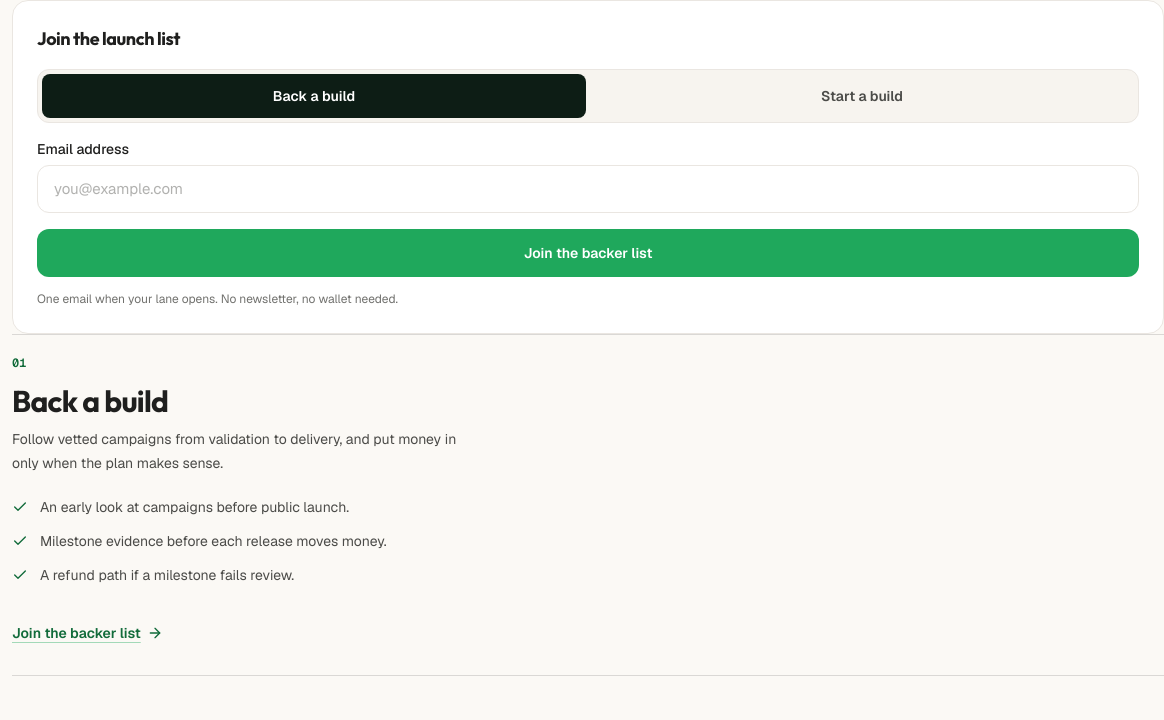
Test: WaitlistForm › keeps the lane summary in step with the form switch
Expected: the heading "Back a build" is shown, [12,382,168,420]
Click the radio button labelled "Start a build". click: click(862, 96)
box: [821,87,903,105]
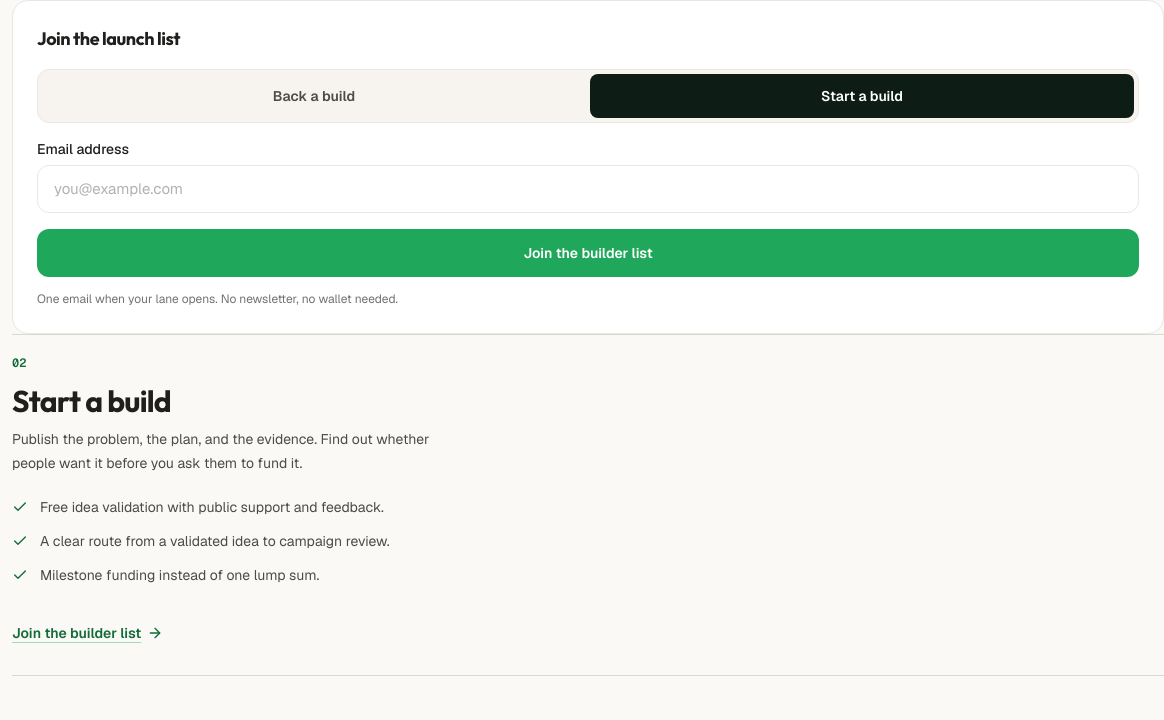
Result: the heading "Start a build" is shown at [12,382,171,420]
Result: the button "Join the builder list" below "Email address" is shown at [37,229,1139,277]
